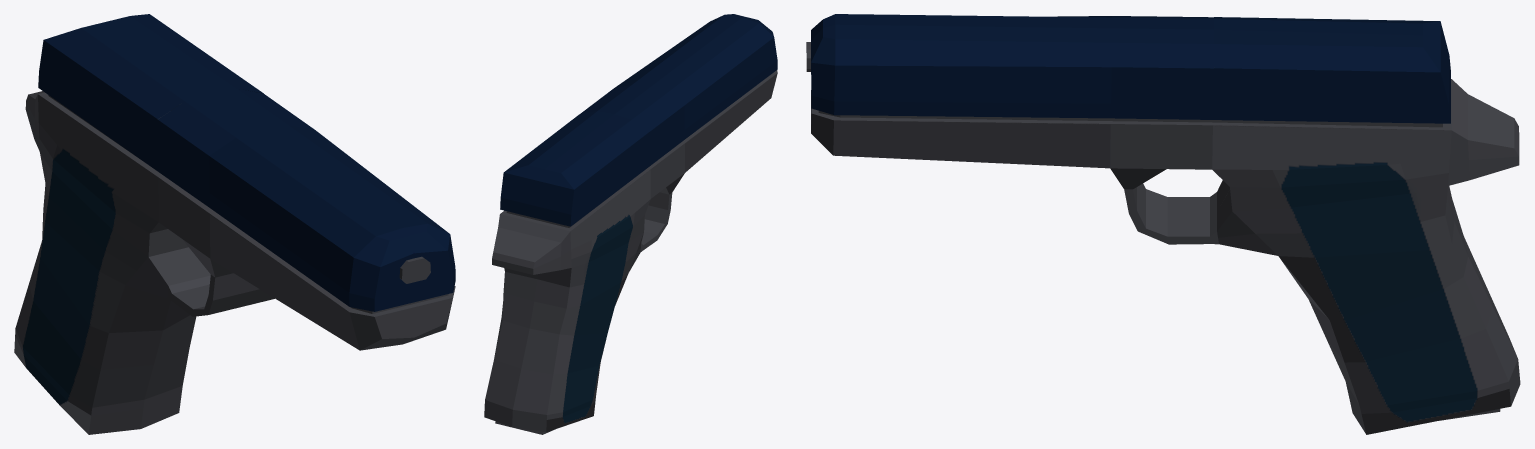
The model's file is Pistol2.fbx.
3 views of the same model, side by side, from view 1: azimuth 30°, elevation 25°; view 2: azimuth 150°, elevation 25°; view 3: azimuth 270°, elevation 25° (orthographic). The views are drawn at different scales.
Visible parts, largest first — view 1: Pistol, Slide; view 2: Pistol, Slide; view 3: Pistol, Slide.
Part boxes in pixels (x1,y1,x2,y2): Pistol: (14, 91, 455, 434); Slide: (38, 14, 455, 311); Pistol: (484, 70, 777, 432); Slide: (500, 14, 777, 226); Pistol: (806, 42, 1520, 434); Slide: (811, 14, 1450, 123).
Size of the model in its own units: 76.48 by 235 by 390.
1 material, 1 textured.
